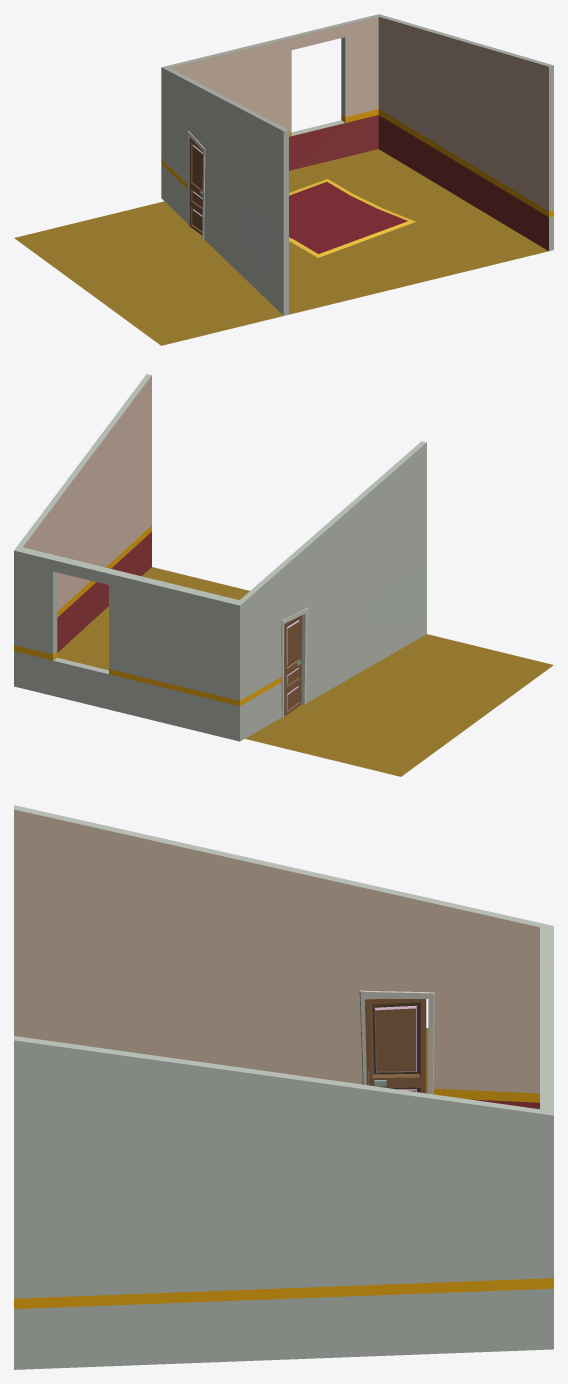
Rendered from TestRoom.fbx.
The picture shows the model from 3 angles, top to bottom: view 1: azimuth 30°, elevation 25°; view 2: azimuth 150°, elevation 25°; view 3: azimuth 270°, elevation 25°; orthographic projection. The views are drawn at different scales.
Visible parts, largest first — view 1: Cube, Cube.001; view 2: Cube, Cube.001; view 3: Cube, Cube.001, Cube.002.
Boxes of the visible parts, x1,y1,x2,y2 form: Cube: [14, 14, 553, 345]; Cube.001: [189, 137, 202, 235]; Cube: [14, 374, 553, 776]; Cube.001: [284, 615, 302, 716]; Cube: [14, 805, 553, 1369]; Cube.001: [365, 999, 426, 1093]; Cube.002: [375, 1008, 415, 1071].
Size of the model in its own units: 11.62 by 5.34 by 7.75.
